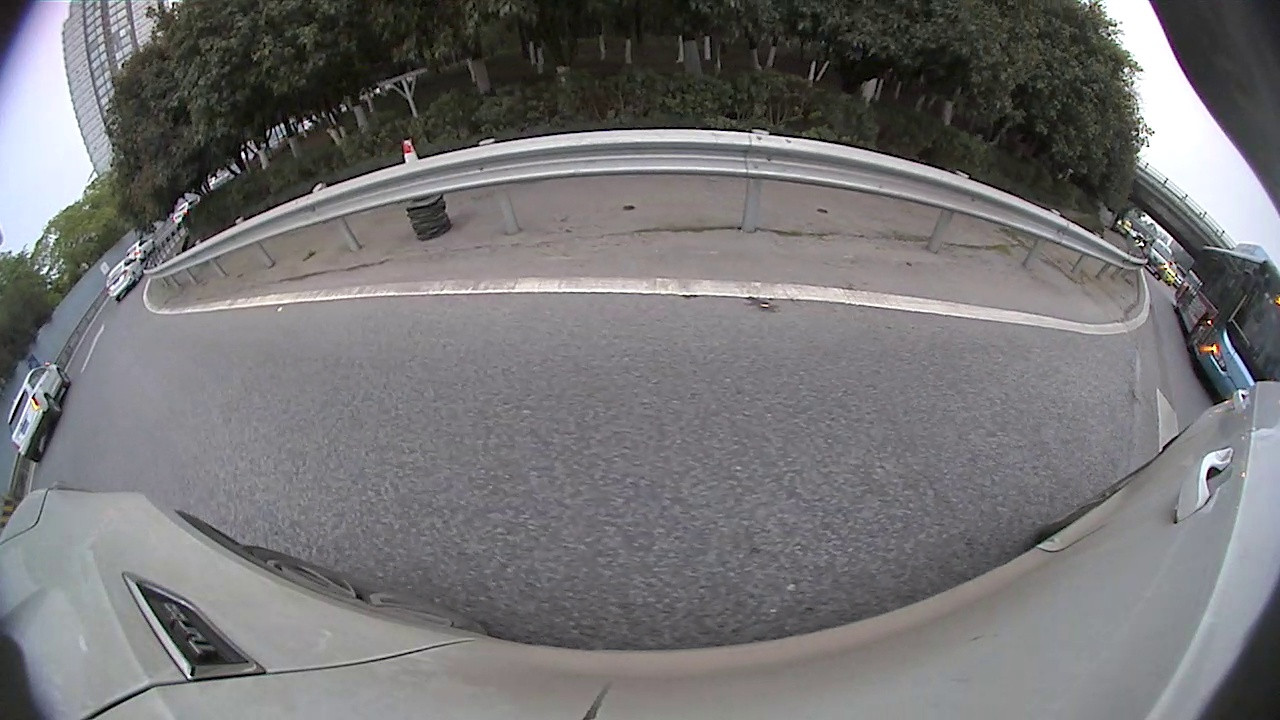bus: (1125, 243, 1217, 362)
car: (112, 144, 311, 283), (1051, 209, 1117, 288), (1196, 374, 1232, 425), (1223, 426, 1252, 464), (62, 257, 93, 292)
front: (174, 222, 220, 272)
rear: (120, 254, 150, 287)
truck: (470, 10, 705, 79)
